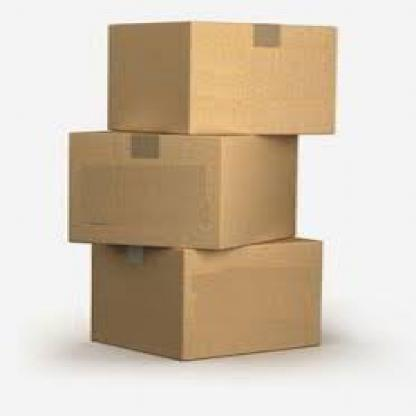paquete: (61, 122, 313, 248), (94, 18, 360, 136), (83, 238, 333, 358)
